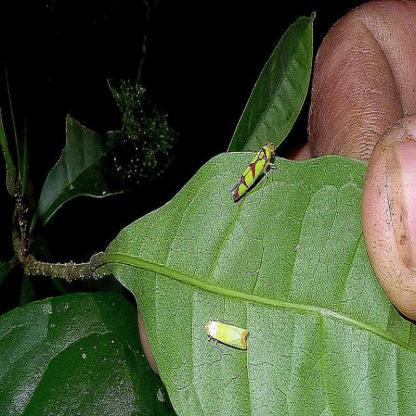green-leafhopper: (232, 144, 278, 202), (202, 309, 252, 359)
